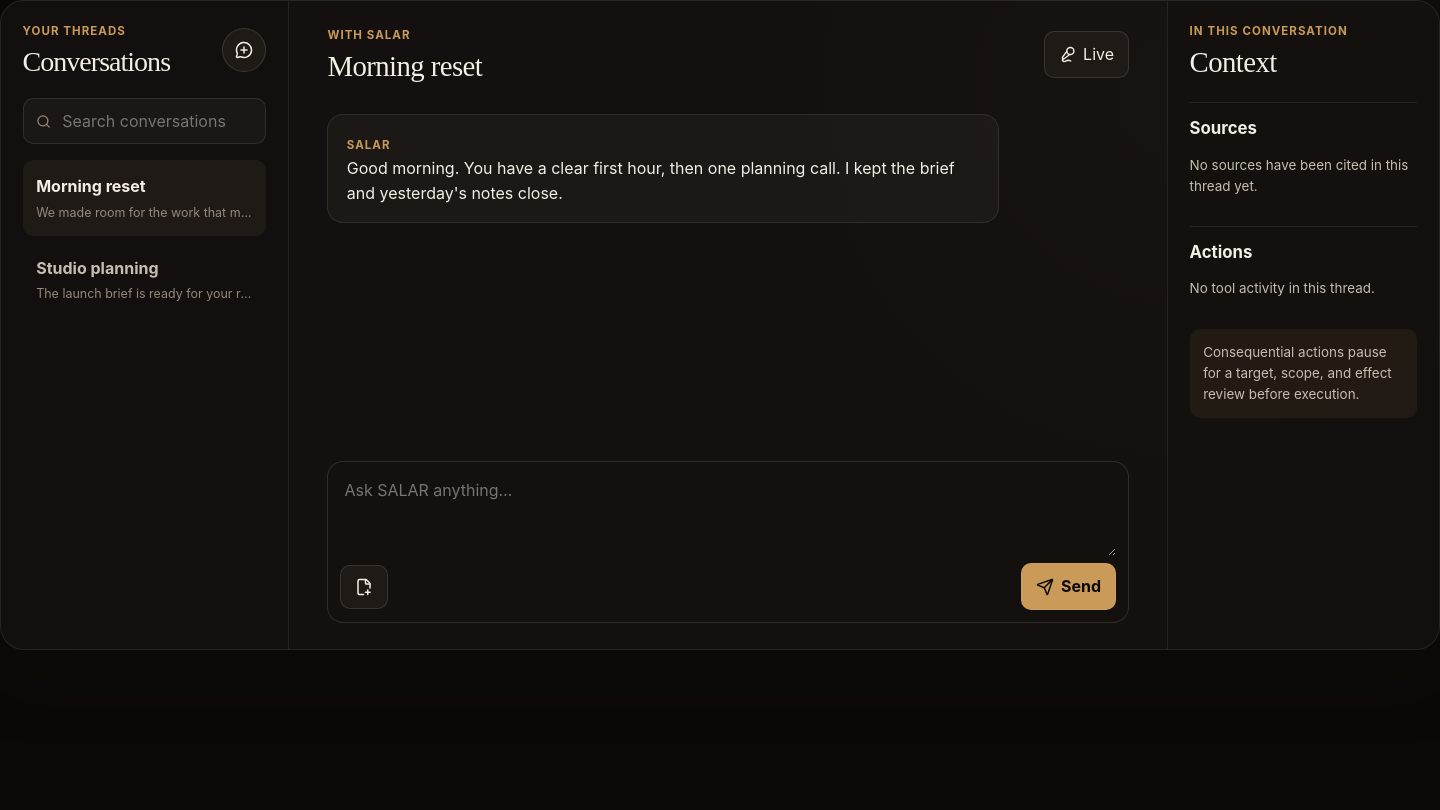
it: ConversationWorkspace › creates and selects a new conversation
Click the button named "New conversation" at (244, 50), box [222, 28, 266, 72]
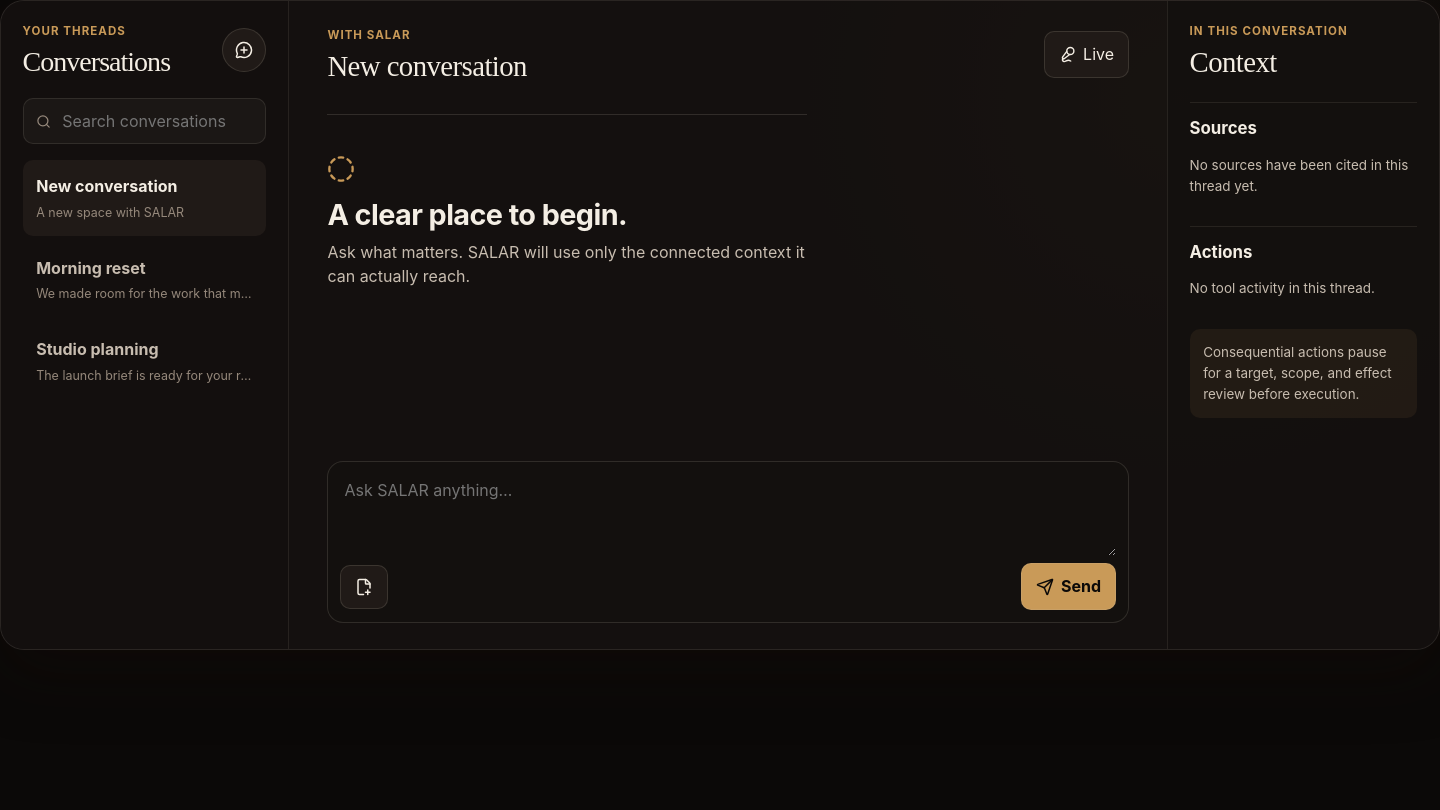
Now the heading "New conversation" is shown, box [327, 50, 527, 82]
